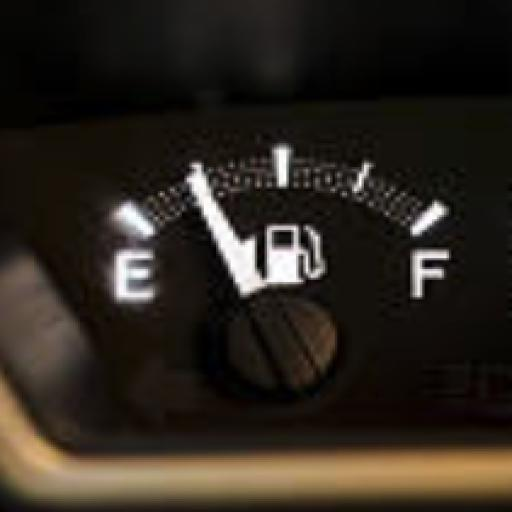empty: (106, 240, 158, 311)
fuel_icon: (265, 217, 325, 284)
full: (405, 245, 451, 300)
guage_area: (75, 136, 463, 415)
needle_center: (212, 280, 349, 399)
needle_tip: (180, 170, 239, 225)
